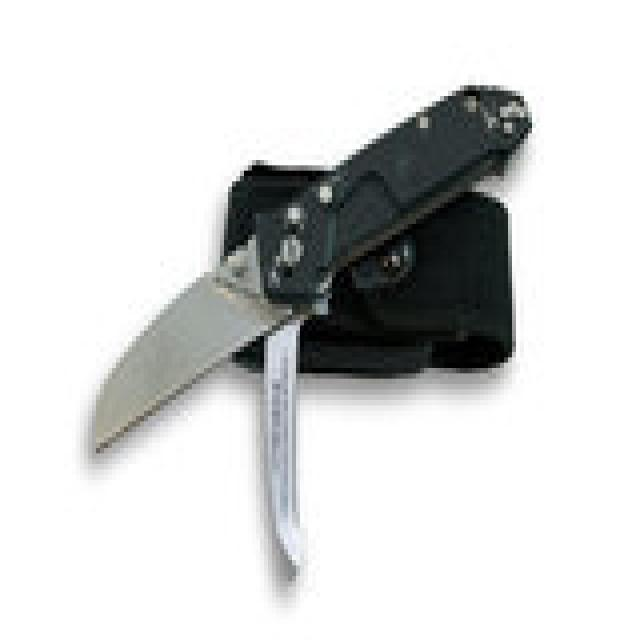Knife: (46, 73, 539, 520)
